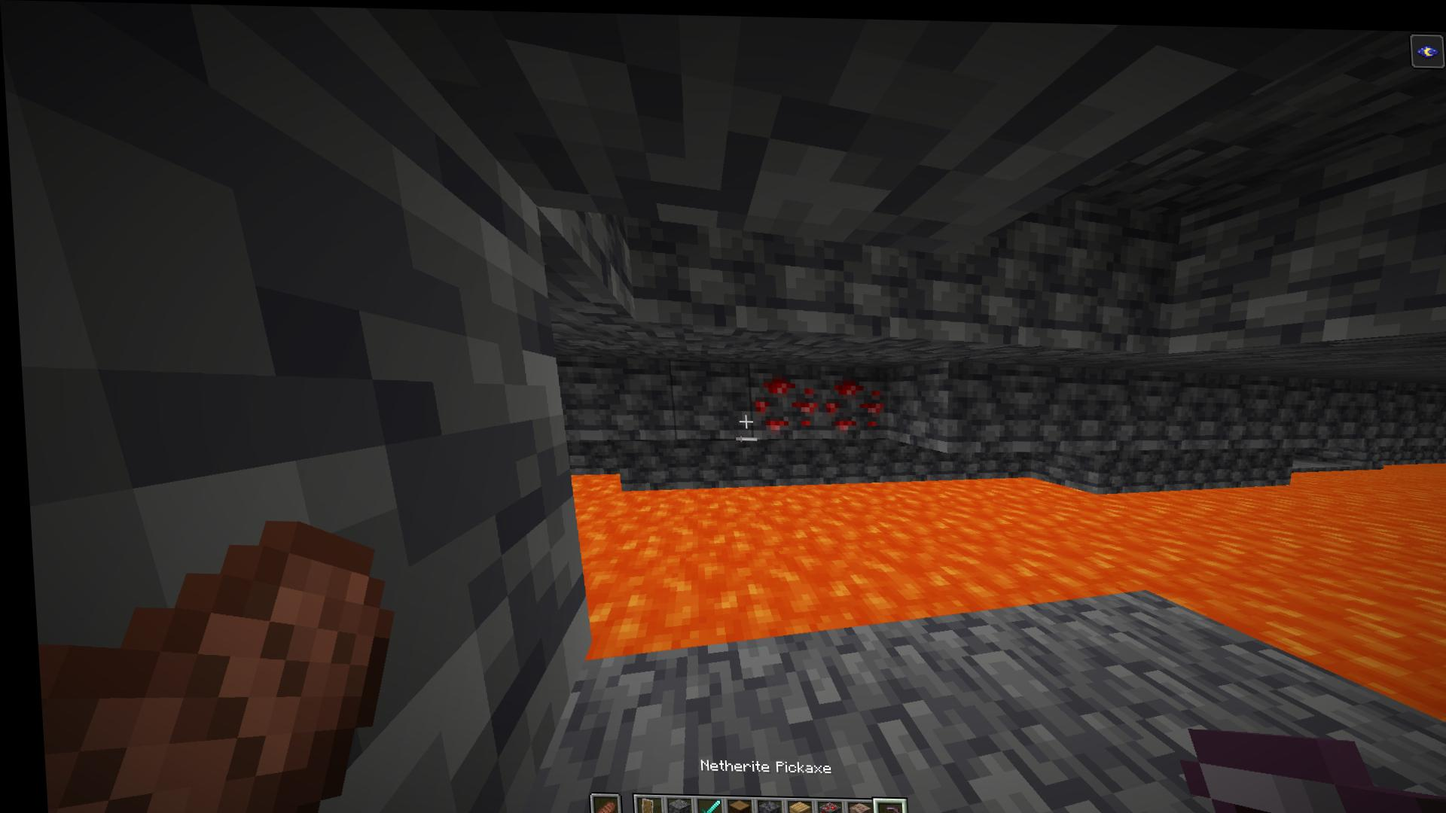redstone ore: (809, 363, 886, 437), (742, 364, 817, 439)
